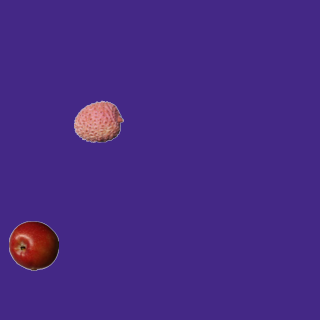Apple Braeburn: (8, 220, 58, 270)
Lychee: (73, 96, 123, 146)
